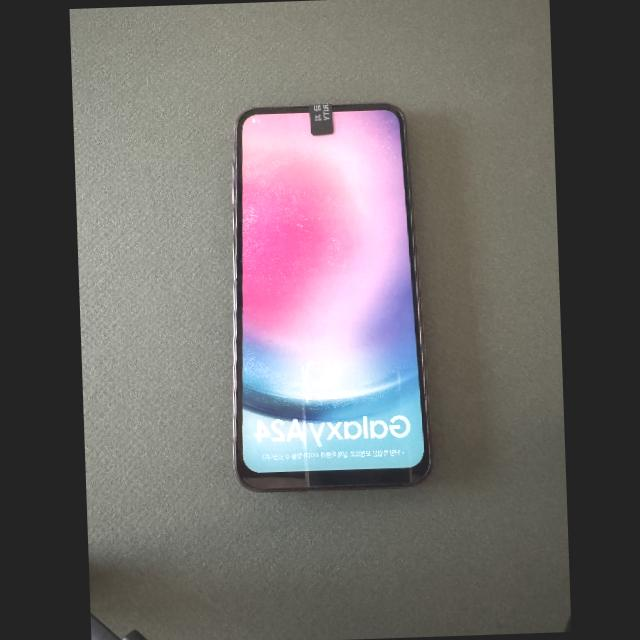phone: (232, 102, 431, 492)
sticker: (309, 103, 333, 135)
